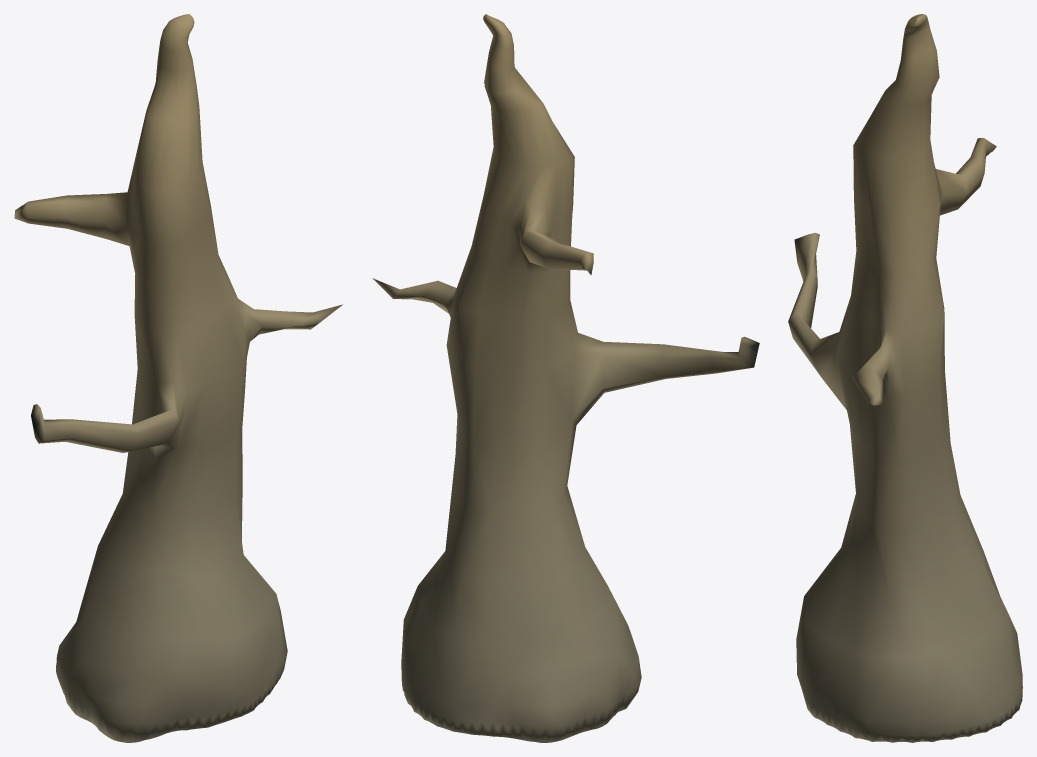
Rendered from deadTree4.fbx.
3 views of the same model, side by side, from view 1: azimuth 30°, elevation 25°; view 2: azimuth 150°, elevation 25°; view 3: azimuth 270°, elevation 25° (orthographic). The views are drawn at different scales.
Visible parts, largest first — view 1: Cylinder; view 2: Cylinder; view 3: Cylinder.
Part boxes in pixels (left/top/right/bottom): Cylinder: left=14, top=14, right=342, bottom=742; Cylinder: left=372, top=14, right=759, bottom=742; Cylinder: left=788, top=14, right=1022, bottom=742.
Bounding box in the file's own units: 175 × 98.83 × 328.
